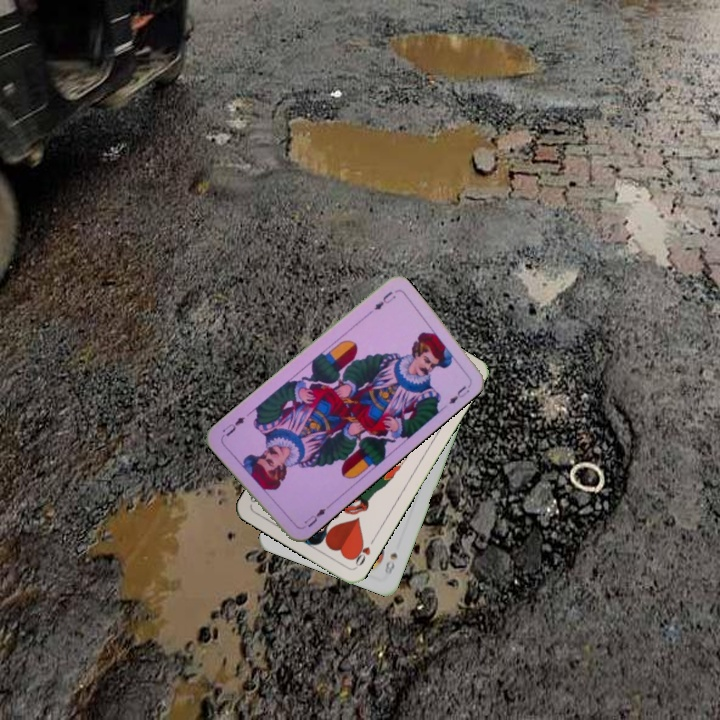EU: (363, 287, 398, 318), (298, 502, 332, 530)
HO: (348, 533, 378, 570)
S8: (380, 548, 400, 577)
